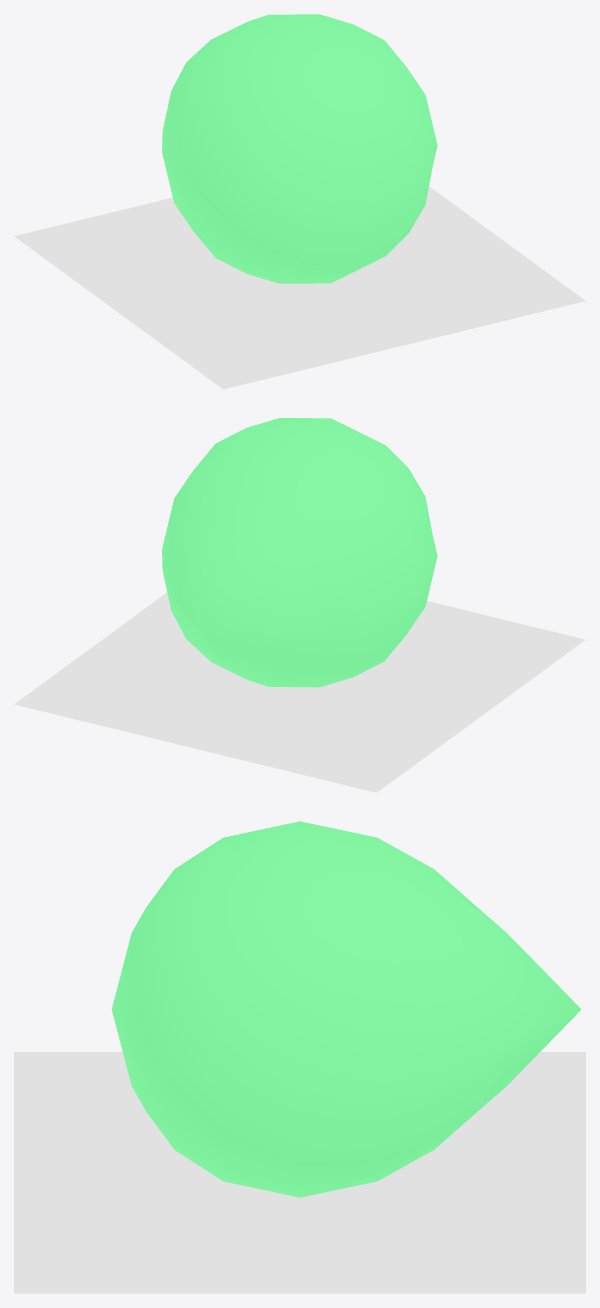
File: ChaserBullet.fbx
3 views of the same model, one above another, from view 1: azimuth 30°, elevation 25°; view 2: azimuth 150°, elevation 25°; view 3: azimuth 270°, elevation 25° (orthographic). The views are drawn at different scales.
Parts seen in each view (by area): view 1: ChaserBullet, Shadow; view 2: ChaserBullet, Shadow; view 3: ChaserBullet, Shadow.
Part boxes in pixels (x1,y1,x2,y2): ChaserBullet: (162,14,437,283); Shadow: (14,186,585,389); ChaserBullet: (162,418,437,687); Shadow: (14,592,585,792); ChaserBullet: (111,821,581,1197); Shadow: (14,1052,585,1293).
Bounding box in the file's own units: 2 × 1.32 × 2.
